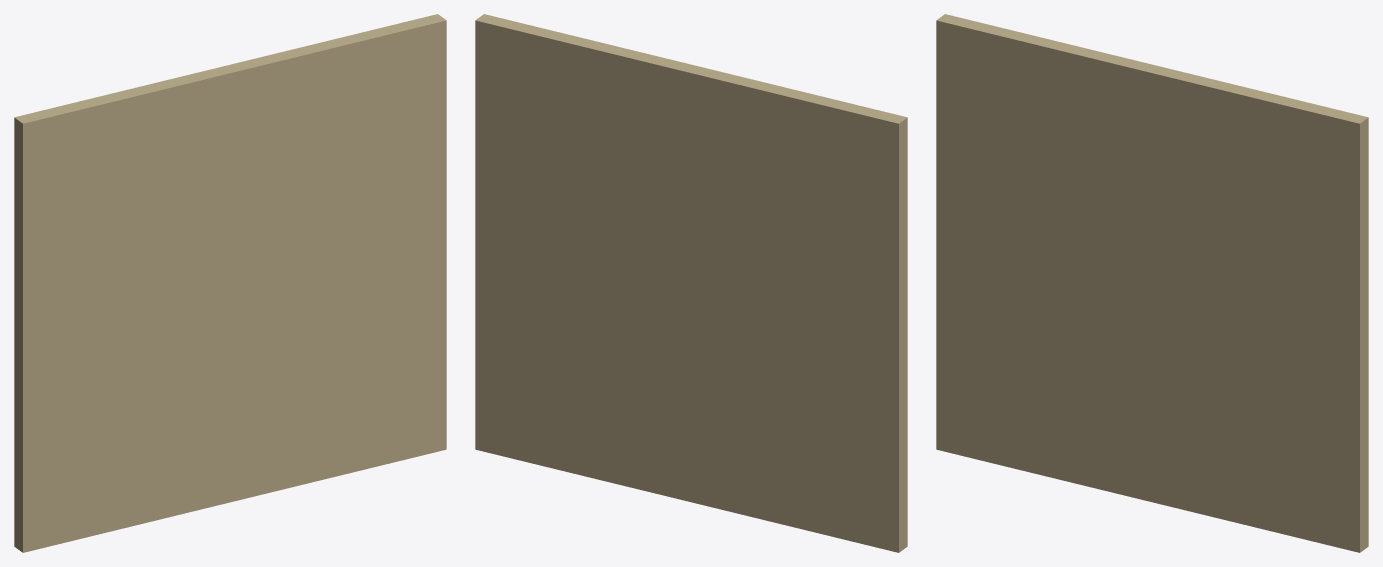
3 renders of one model, left to right at view 1: azimuth 30°, elevation 25°; view 2: azimuth 150°, elevation 25°; view 3: azimuth 330°, elevation 25°, orthographic.
Visible parts, largest first — view 1: GF-W058; view 2: GF-W058; view 3: GF-W058.
Part boxes in pixels (x1=…): GF-W058: x1=14, y1=14, x2=446, y2=552; GF-W058: x1=475, y1=14, x2=907, y2=552; GF-W058: x1=936, y1=14, x2=1368, y2=552.
Bounding box in the file's own units: 2.5 × 2.42 × 0.09.
